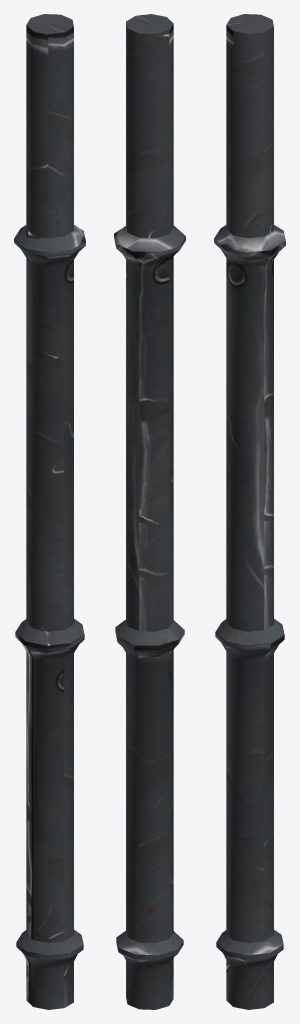
Rendered from metalowyPret.FBX.
The picture shows the model from 3 angles, left to right: view 1: azimuth 30°, elevation 25°; view 2: azimuth 210°, elevation 25°; view 3: azimuth 270°, elevation 25°; orthographic projection.
Visible parts, largest first — view 1: Cylinder023; view 2: Cylinder023; view 3: Cylinder023.
Boxes of the visible parts, x1,y1,x2,y2 form: Cylinder023: [14, 14, 85, 1009]; Cylinder023: [114, 14, 185, 1009]; Cylinder023: [214, 14, 285, 1009].
Size of the model in its own units: 1.3 by 19.53 by 1.3.
Materials: 1 (1 with a texture image).
